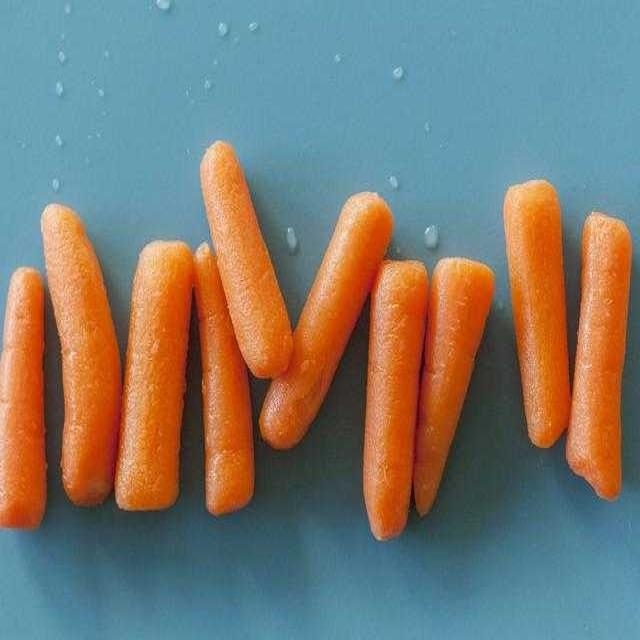carrots: (274, 188, 414, 462), (22, 193, 118, 507), (356, 245, 435, 550), (498, 184, 583, 464), (198, 128, 289, 384), (413, 243, 496, 521), (125, 238, 194, 548), (568, 209, 637, 487)
